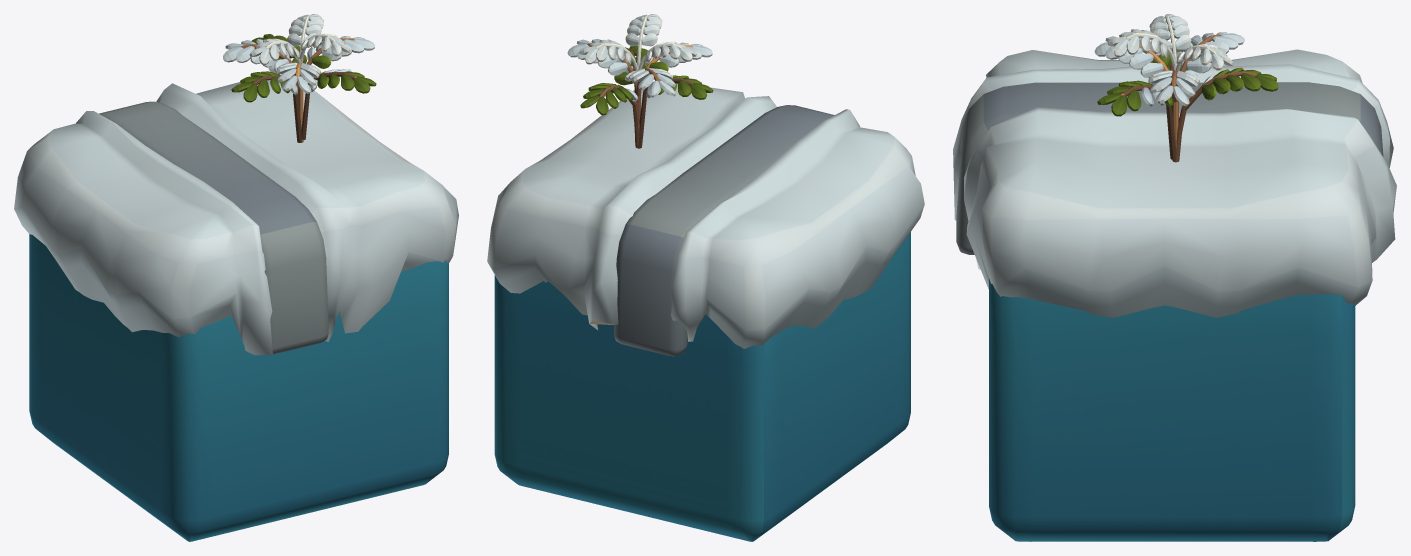
File: Winter5.fbx
3 views of the same model, side by side, from view 1: azimuth 30°, elevation 25°; view 2: azimuth 150°, elevation 25°; view 3: azimuth 270°, elevation 25° (orthographic). The views are drawn at different scales.
Parts seen in each view (by area): view 1: Winter5, Winter_Cube5.003, Winter5.003, Winter_Cube_05 .001; view 2: Winter5, Winter_Cube5.003, Winter5.003, Winter_Cube_05 .001; view 3: Winter_Cube5.003, Winter5, Winter5.003, Winter_Cube_05 .001.
Part boxes in pixels (box(x1,y1,x2,y2)): Winter5: box(29, 234, 448, 541); Winter_Cube5.003: box(14, 80, 458, 355); Winter5.003: box(99, 101, 328, 354); Winter_Cube_05 .001: box(223, 14, 376, 142); Winter5: box(494, 232, 910, 541); Winter_Cube5.003: box(487, 82, 924, 348); Winter5.003: box(614, 105, 834, 356); Winter_Cube_05 .001: box(567, 14, 713, 148); Winter_Cube5.003: box(953, 49, 1396, 317); Winter5: box(989, 278, 1355, 541); Winter5.003: box(956, 82, 1383, 254); Winter_Cube_05 .001: box(1094, 14, 1278, 162).
Size of the model in its own units: 115 by 146 by 121.
